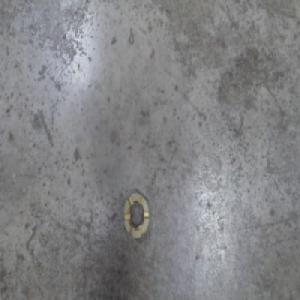Nut: (122, 186, 150, 242)
